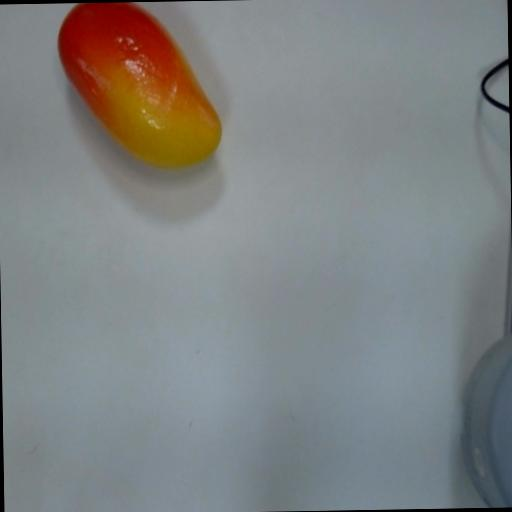Ripe: (47, 2, 235, 186)
